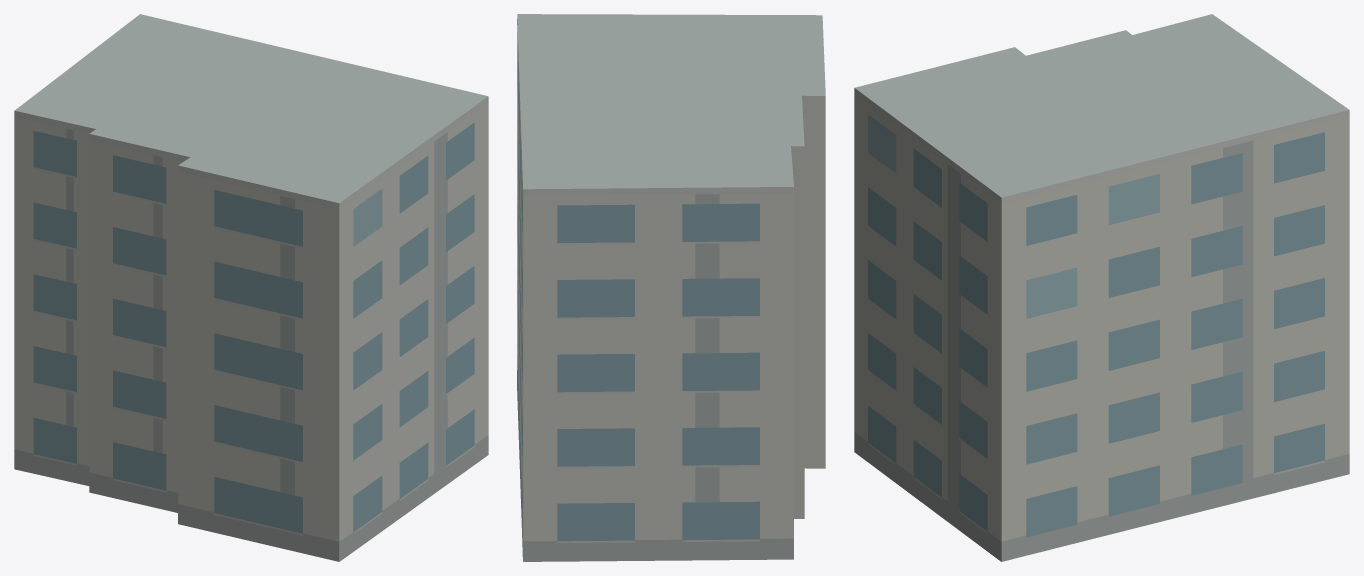
Rendered from survey-upis-32910757.glb.
The picture shows the model from 3 angles, left to right: view 1: azimuth 30°, elevation 25°; view 2: azimuth 150°, elevation 25°; view 3: azimuth 270°, elevation 25°; orthographic projection. The views are drawn at different scales.
Parts seen in each view (by area): view 1: survey-upis-32910757.tmp; view 2: survey-upis-32910757.tmp; view 3: survey-upis-32910757.tmp.
Part boxes in pixels (x1,y1,x2,y2): survey-upis-32910757.tmp: (14, 14, 488, 561); survey-upis-32910757.tmp: (517, 14, 825, 561); survey-upis-32910757.tmp: (854, 14, 1349, 561).
Size of the model in its own units: 14.76 by 13.65 by 16.82.
